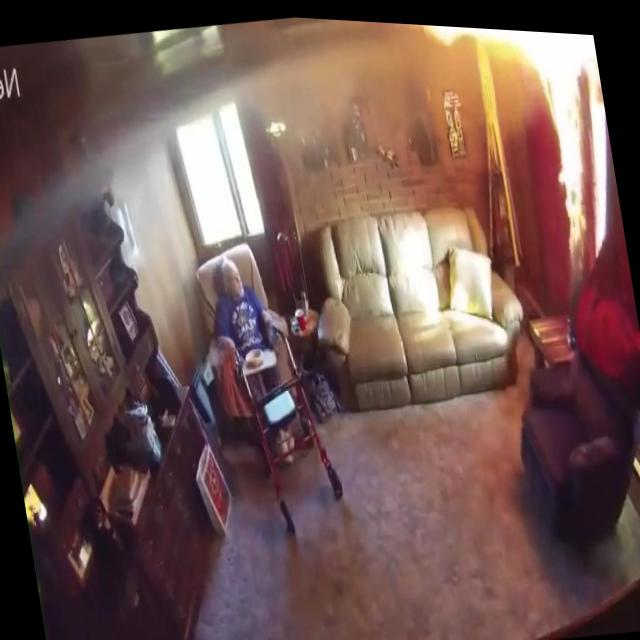fire: (526, 24, 625, 246), (409, 19, 594, 78)
